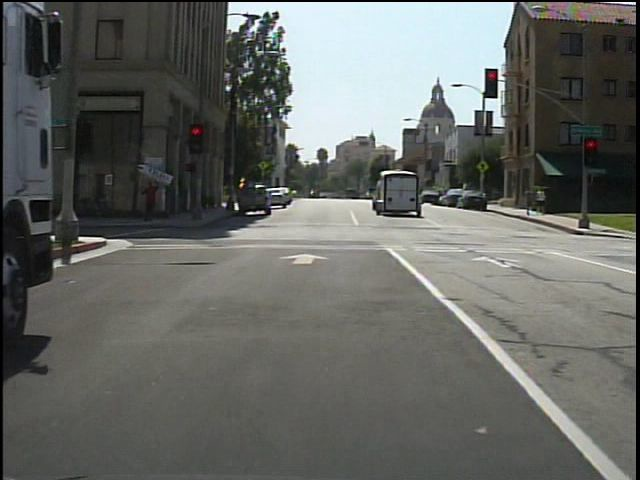person: (141, 175, 164, 223), (522, 184, 536, 218), (534, 186, 549, 217)
